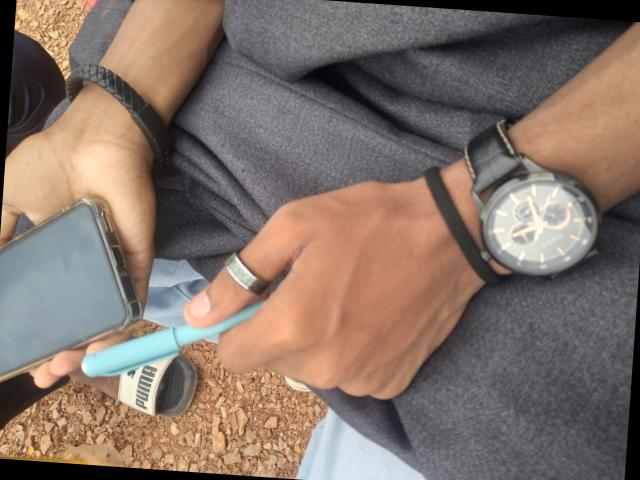PEN: (77, 70, 182, 277)
